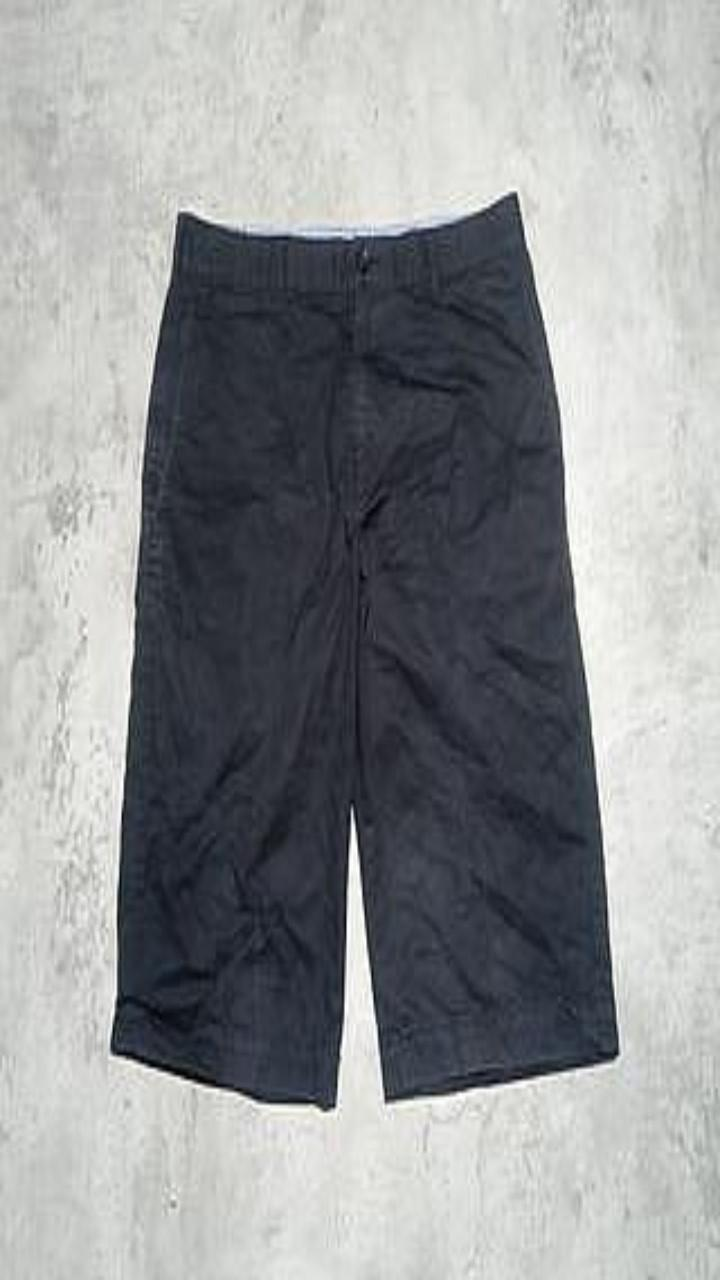Shorts: (111, 192, 617, 1108)
